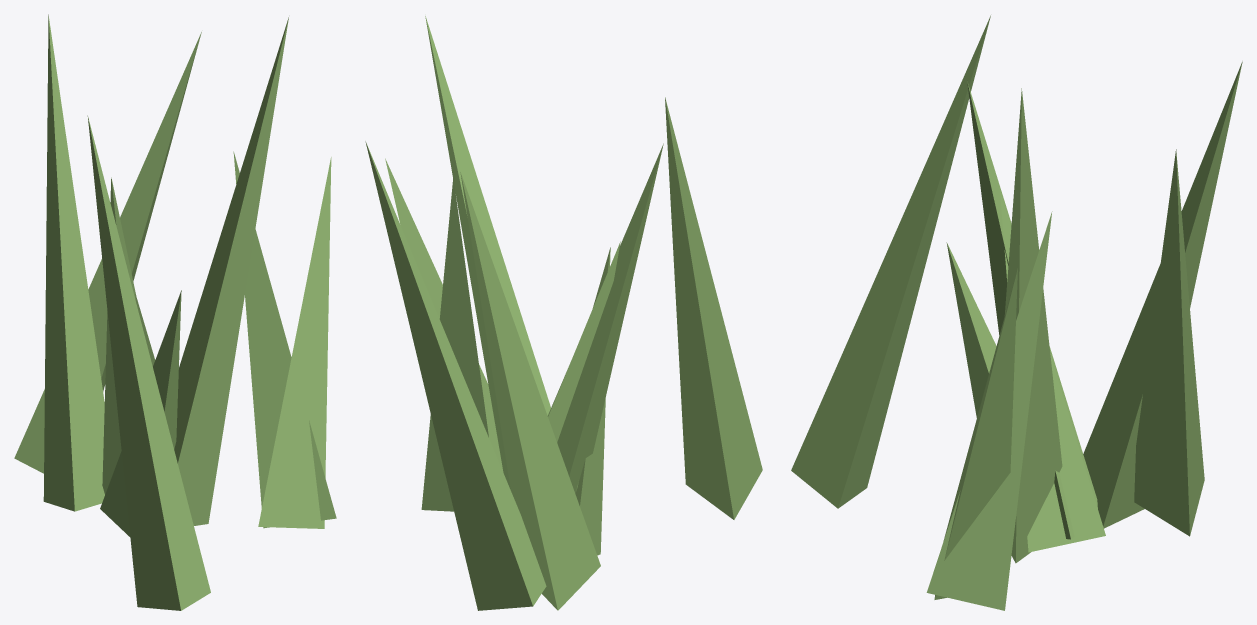
The model's file is SM_Grass_01.fbx.
3 views of the same model, side by side, from view 1: azimuth 30°, elevation 25°; view 2: azimuth 150°, elevation 25°; view 3: azimuth 270°, elevation 25° (orthographic). The views are drawn at different scales.
Visible parts, largest first — view 1: SM_Grass_01; view 2: SM_Grass_01; view 3: SM_Grass_01.
Boxes of the visible parts, x1,y1,x2,y2 form: SM_Grass_01: [14, 14, 336, 610]; SM_Grass_01: [365, 16, 762, 610]; SM_Grass_01: [791, 15, 1242, 610].
Bounding box in the file's own units: 0.2108 × 0.3726 × 0.2921.
